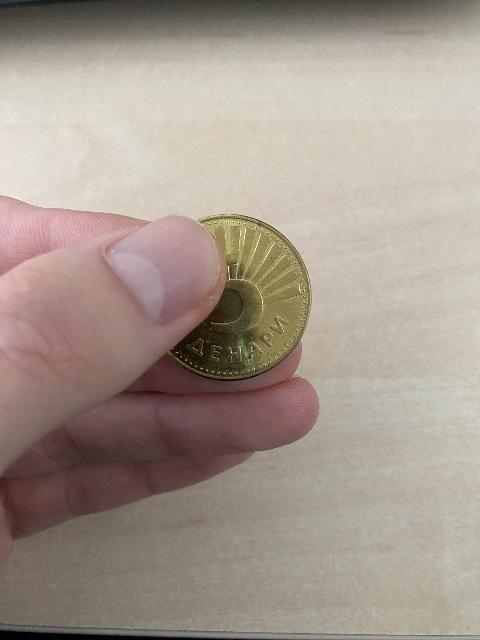5_coin: (170, 215, 311, 379)
